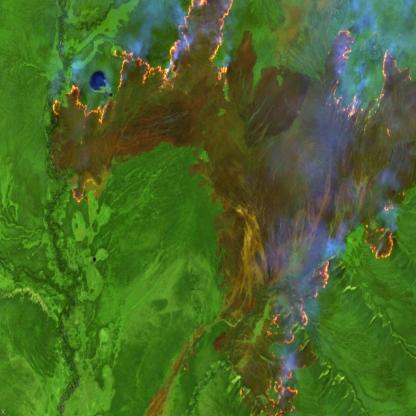fire: (45, 0, 416, 416)
